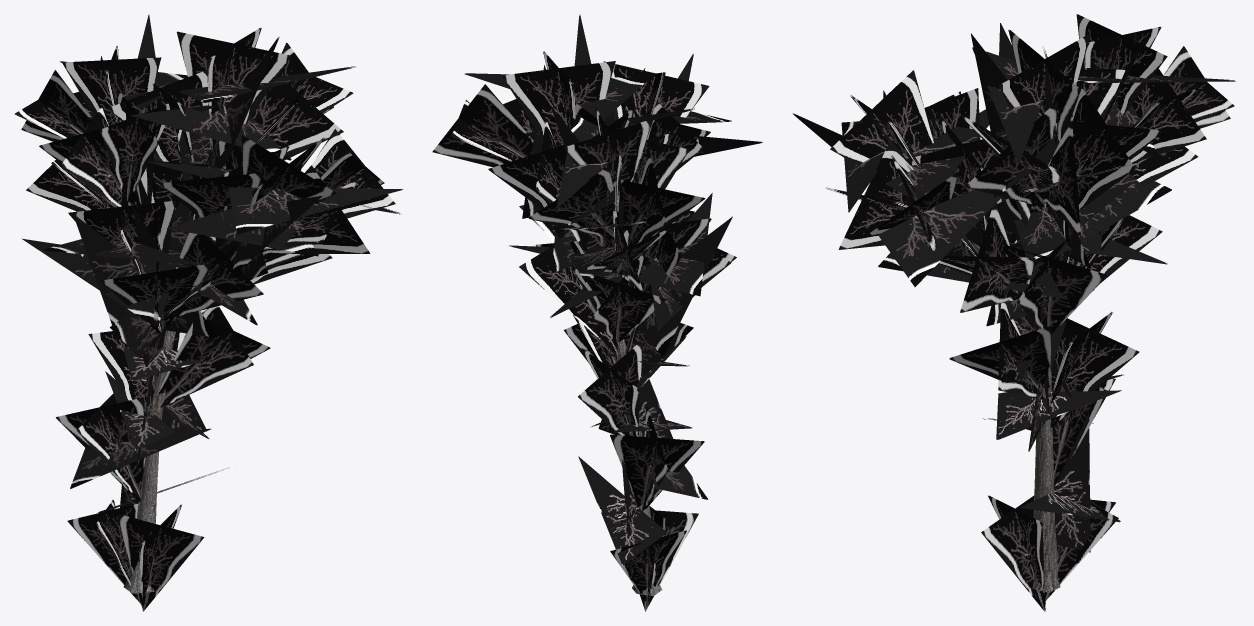
File: olmo_seco_a.glb
3 renders of one model, left to right at view 1: azimuth 30°, elevation 25°; view 2: azimuth 150°, elevation 25°; view 3: azimuth 270°, elevation 25°, orthographic. The views are drawn at different scales.
Visible parts, largest first — view 1: Modelo; view 2: Modelo; view 3: Modelo.
Boxes of the visible parts, left/top/right/bottom form: Modelo: left=14, top=14, right=402, bottom=611; Modelo: left=432, top=14, right=762, bottom=611; Modelo: left=793, top=14, right=1235, bottom=611.
Size of the model in its own units: 7.11 by 13.6 by 8.7.
1 material, 1 textured.
